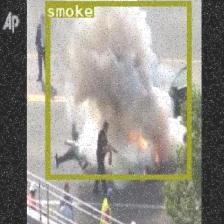smoke: (45, 0, 190, 177)
